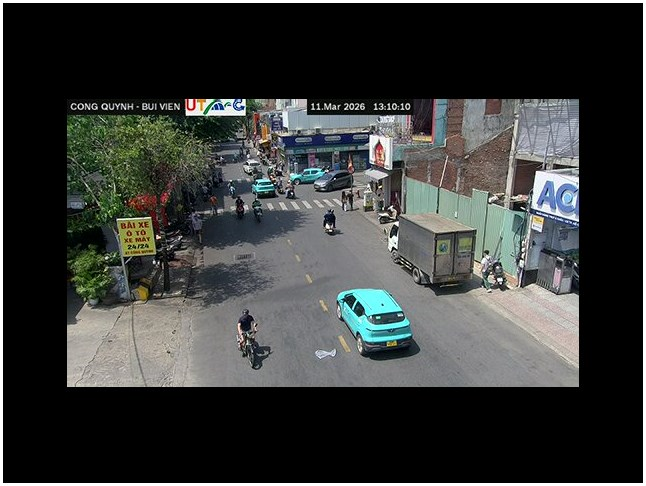car: (335, 288, 414, 354), (313, 170, 354, 192), (252, 178, 277, 198), (294, 168, 327, 183)
truck: (390, 210, 477, 286)
